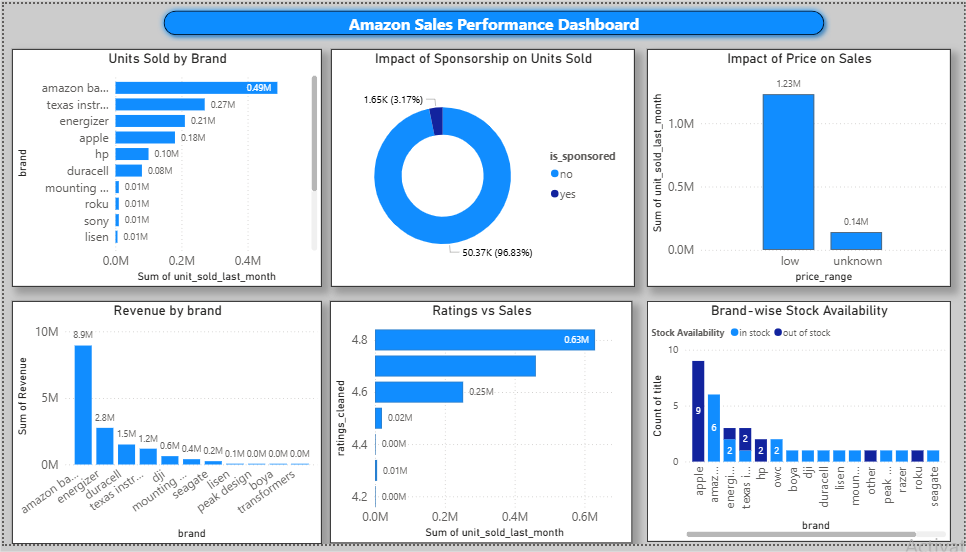

The page's visual inventory and layout, read from the dashboard file:
{"tool":"powerbi","page":{"name":"Page 1","canvas":[1280,720],"ordinal":0},"visuals":[{"type":"clusteredBarChart","title":"Units Sold by Brand","fields":{"Category":["amazon_sales_working.brand"],"Y":["Sum(amazon_sales_working.unit_sold_last_month)"]},"box":[10.1,60.5,413.3,316.8],"z":0},{"type":"clusteredColumnChart","title":" Revenue by brand","fields":{"Category":["amazon_sales_working.brand"],"Y":["Sum(amazon_sales_working.Revenue)"]},"box":[10.1,396,413.3,324],"z":1000},{"type":"donutChart","title":"Impact of Sponsorship on Units Sold","fields":{"Category":["amazon_sales_working.is_sponsored"],"Y":["Avg(amazon_sales_working.unit_sold_last_month)"]},"box":[436.3,60.5,404.6,316.8],"z":2000},{"type":"clusteredColumnChart","title":"Impact of Price on Sales","fields":{"Category":["amazon_sales_working.price_range"],"Y":["Sum(amazon_sales_working.unit_sold_last_month)"]},"box":[856.8,60.5,404.6,316.8],"z":3000},{"type":"barChart","title":"Ratings vs Sales","fields":{"Category":["amazon_sales_working.ratings_cleaned"],"Y":["Sum(amazon_sales_working.unit_sold_last_month)"]},"box":[434.9,396,403.2,322.6],"z":4000},{"type":"columnChart","title":"Brand-wise Stock Availability","fields":{"Category":["amazon_sales_working.brand"],"Y":["CountNonNull(amazon_sales_working.title)"],"Series":["amazon_sales_working.buy_box_availability"]},"box":[856.8,396,404.6,321.1],"z":5000},{"type":"shape","box":[204.5,0,898.6,50.4],"z":5001}]}

Visuals, with their boxes in screenshot pixels (x1, y1, x2, y2), scaled from the page's 1280x720 canvas onto the 966x552 screenshot:
"Units Sold by Brand" clusteredBarChart: select_region(8, 46, 320, 289)
" Revenue by brand" clusteredColumnChart: select_region(8, 304, 320, 551)
"Impact of Sponsorship on Units Sold" donutChart: select_region(329, 46, 635, 289)
"Impact of Price on Sales" clusteredColumnChart: select_region(647, 46, 952, 289)
"Ratings vs Sales" barChart: select_region(328, 304, 633, 551)
"Brand-wise Stock Availability" columnChart: select_region(647, 304, 952, 550)
shape: select_region(154, 0, 832, 39)
